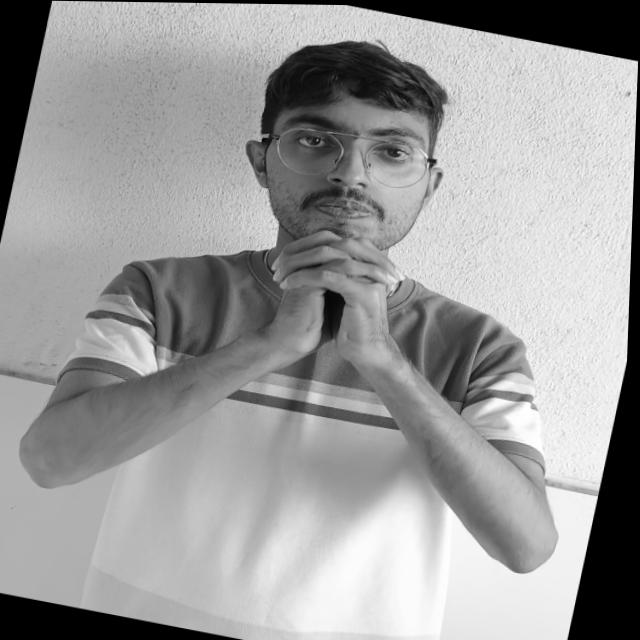Sorry: (217, 210, 467, 420)
